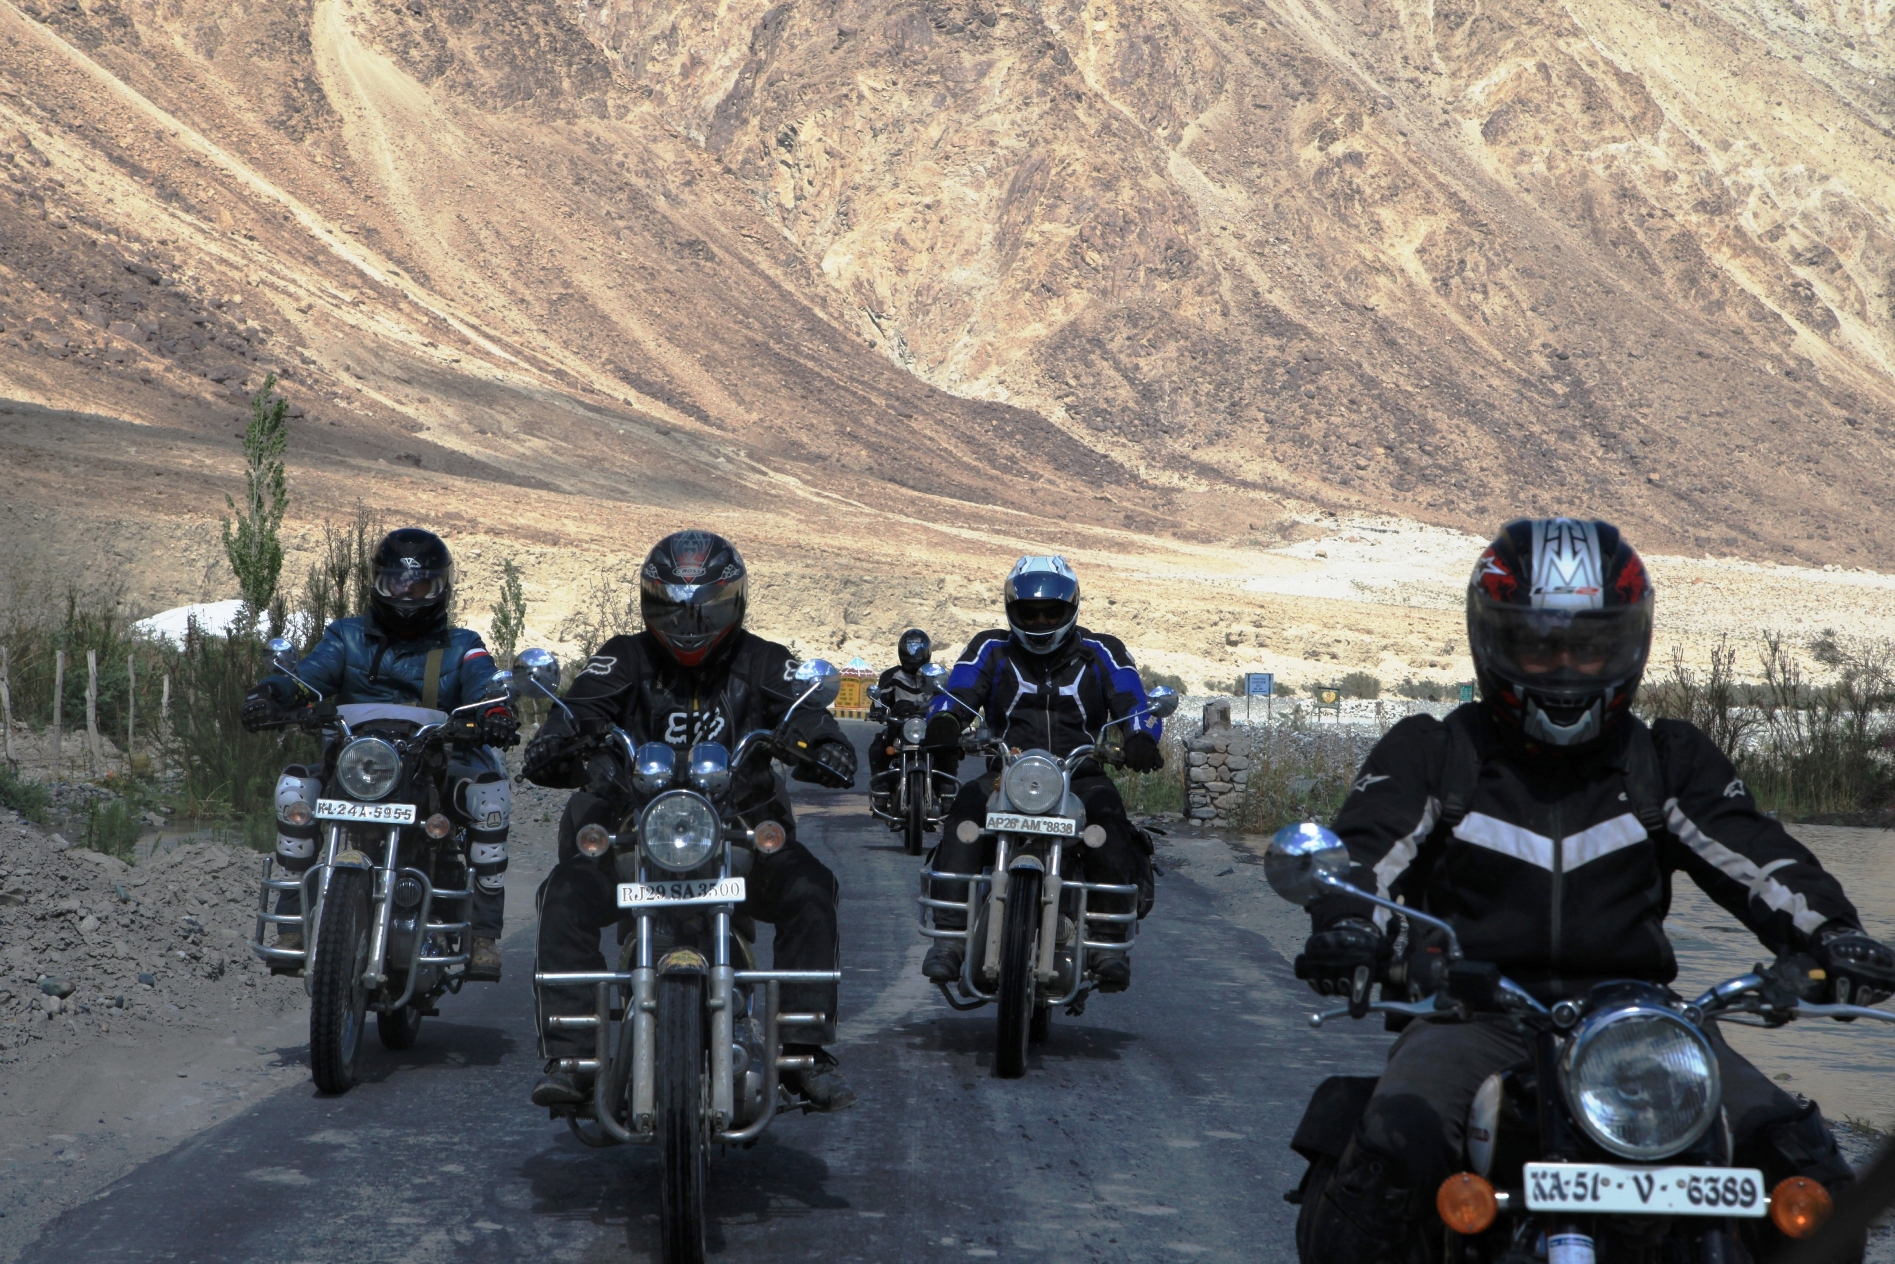helmet: (1472, 513, 1660, 743), (354, 515, 465, 626), (634, 529, 746, 640), (988, 543, 1098, 655)
